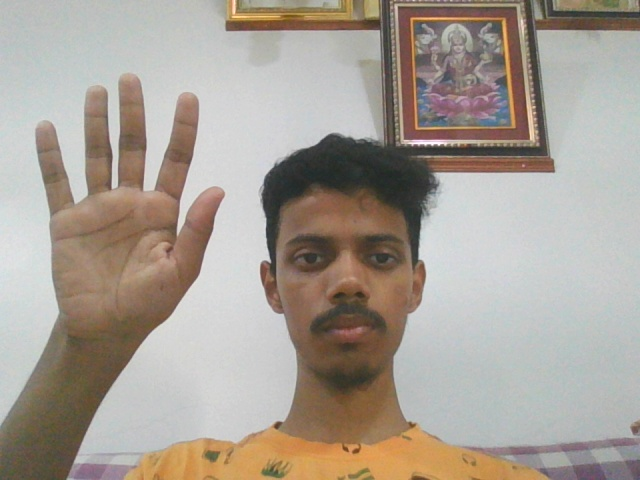Hello: (33, 71, 225, 345)
